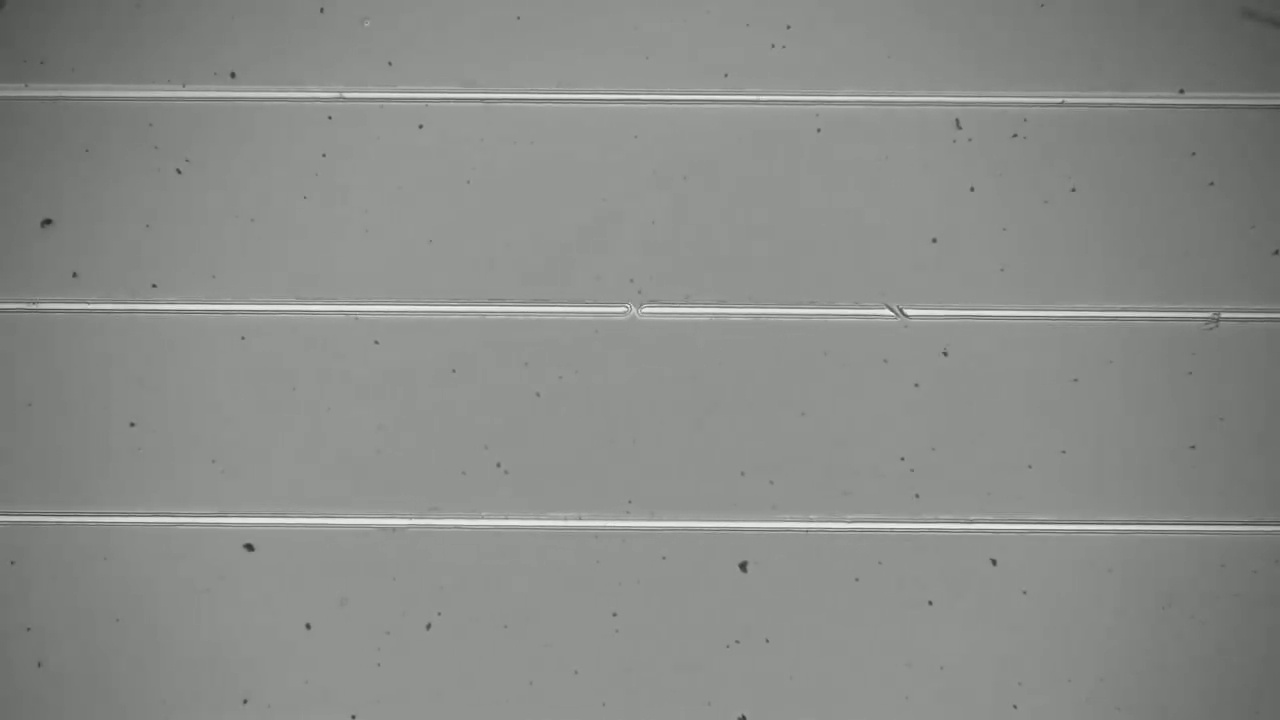open: (611, 290, 661, 332), (877, 292, 914, 329)
stains_enbedded: (1191, 296, 1237, 341)
